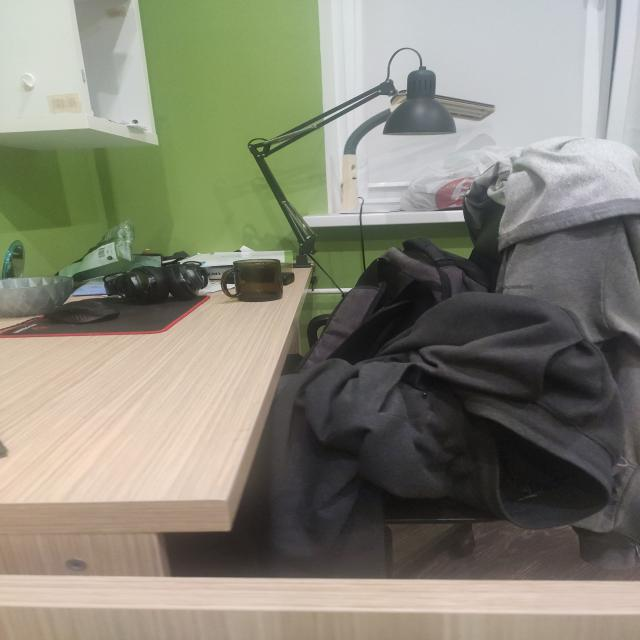cups: (220, 259, 294, 302)
